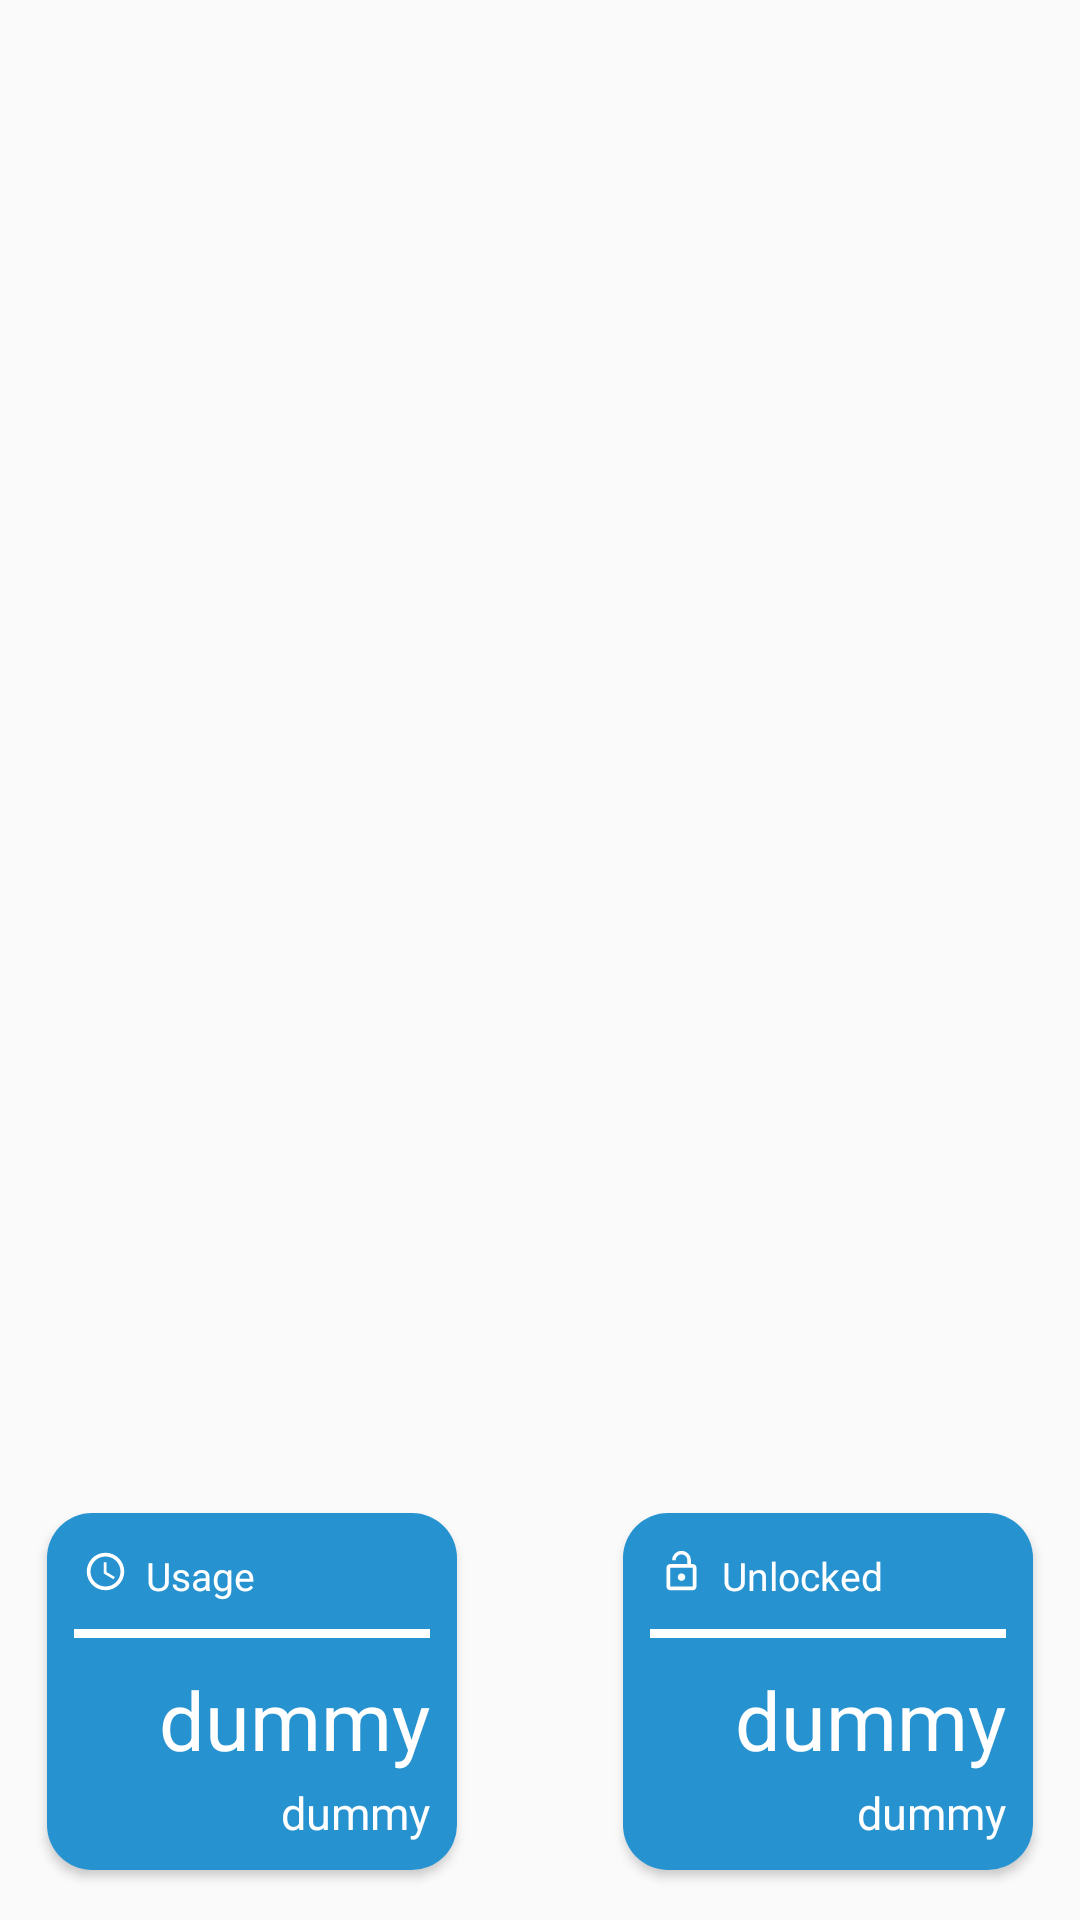

Where icons sit on this 1080x1920 app screen, as bbox=(x1, y1, x2, y2):
time: bbox=(86, 1552, 125, 1591)
